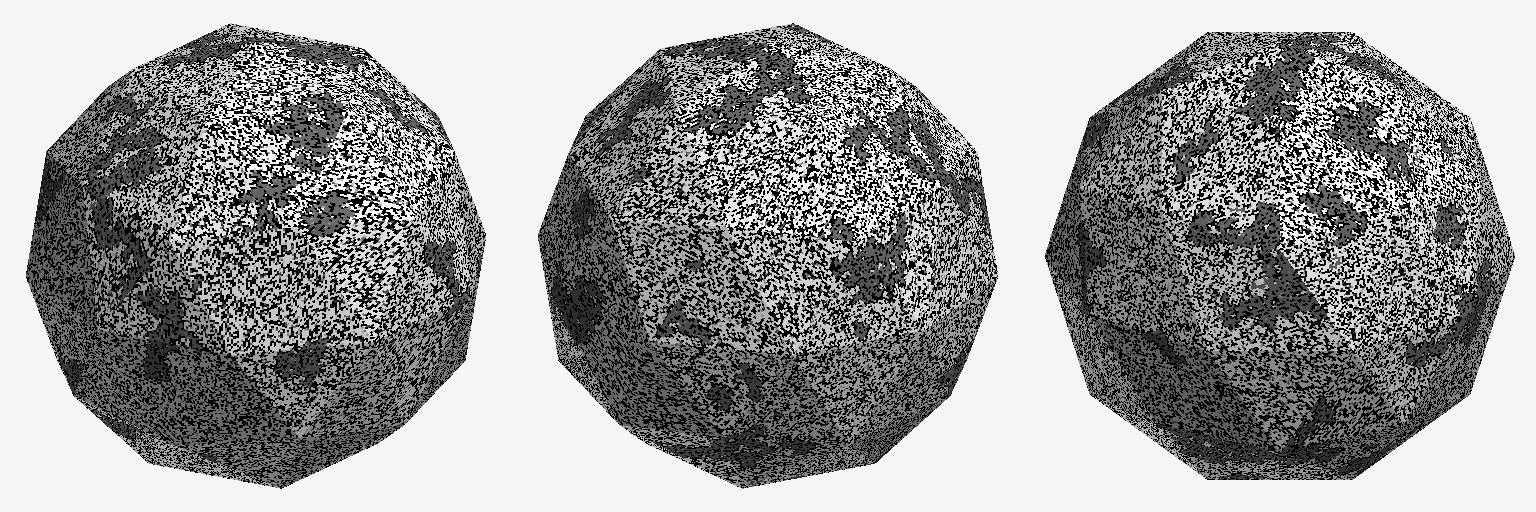
3 renders of one model, left to right at view 1: azimuth 30°, elevation 25°; view 2: azimuth 150°, elevation 25°; view 3: azimuth 270°, elevation 25°, orthographic.
Visible parts, largest first — view 1: Icosphere; view 2: Icosphere; view 3: Icosphere.
Part boxes in pixels (x1,y1,x2,y2): Icosphere: (26,23,485,488); Icosphere: (538,23,997,488); Icosphere: (1045,32,1514,479).
Bounding box in the file's own units: 19.02 × 20 × 20.
1 materials, 1 textured.